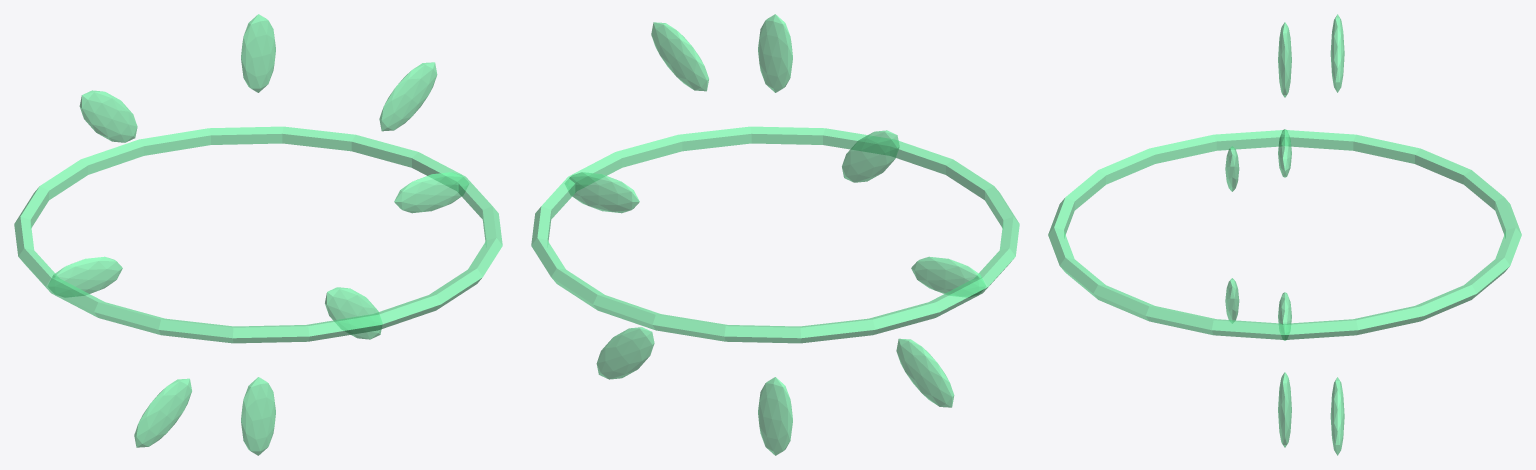
Rendered from vfx_leaf_heal_swirl.glb.
3 views of the same model, side by side, from view 1: azimuth 30°, elevation 25°; view 2: azimuth 150°, elevation 25°; view 3: azimuth 270°, elevation 25° (orthographic). The views are drawn at different scales.
Visible parts, largest first — view 1: orbit, leaf_5, leaf_1, leaf_2, leaf_6, leaf_3, leaf_0, leaf_7, leaf_4; view 2: orbit, leaf_1, leaf_5, leaf_2, leaf_6, leaf_7, leaf_3, leaf_0, leaf_4; view 3: orbit, leaf_3, leaf_7, leaf_2, leaf_6, leaf_4, leaf_0, leaf_1, leaf_5.
Part boxes in pixels (x1,y1,x2,y2): orbit: [14, 126, 502, 343]; leaf_5: [134, 378, 191, 447]; leaf_1: [379, 62, 437, 131]; leaf_2: [241, 14, 275, 92]; leaf_6: [241, 377, 275, 455]; leaf_3: [79, 90, 137, 142]; leaf_0: [394, 172, 468, 213]; leaf_7: [325, 287, 381, 339]; leaf_4: [48, 256, 122, 297]; orbit: [531, 126, 1019, 343]; leaf_1: [651, 22, 708, 91]; leaf_5: [896, 338, 954, 407]; leaf_2: [758, 14, 792, 92]; leaf_6: [758, 377, 792, 455]; leaf_7: [596, 327, 654, 379]; leaf_3: [842, 130, 899, 182]; leaf_0: [565, 172, 639, 213]; leaf_4: [911, 256, 985, 297]; orbit: [1048, 130, 1521, 339]; leaf_3: [1330, 14, 1344, 92]; leaf_7: [1330, 377, 1344, 455]; leaf_2: [1278, 22, 1291, 97]; leaf_6: [1278, 372, 1291, 447]; leaf_4: [1278, 129, 1291, 177]; leaf_0: [1278, 292, 1291, 340]; leaf_1: [1225, 146, 1239, 191]; leaf_5: [1225, 278, 1239, 323].
Bounding box in the file's own units: 1.35 × 1.34 × 1.35.
